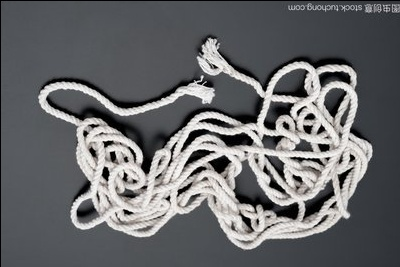9/可回收垃圾/绳子: (37, 36, 374, 250)
